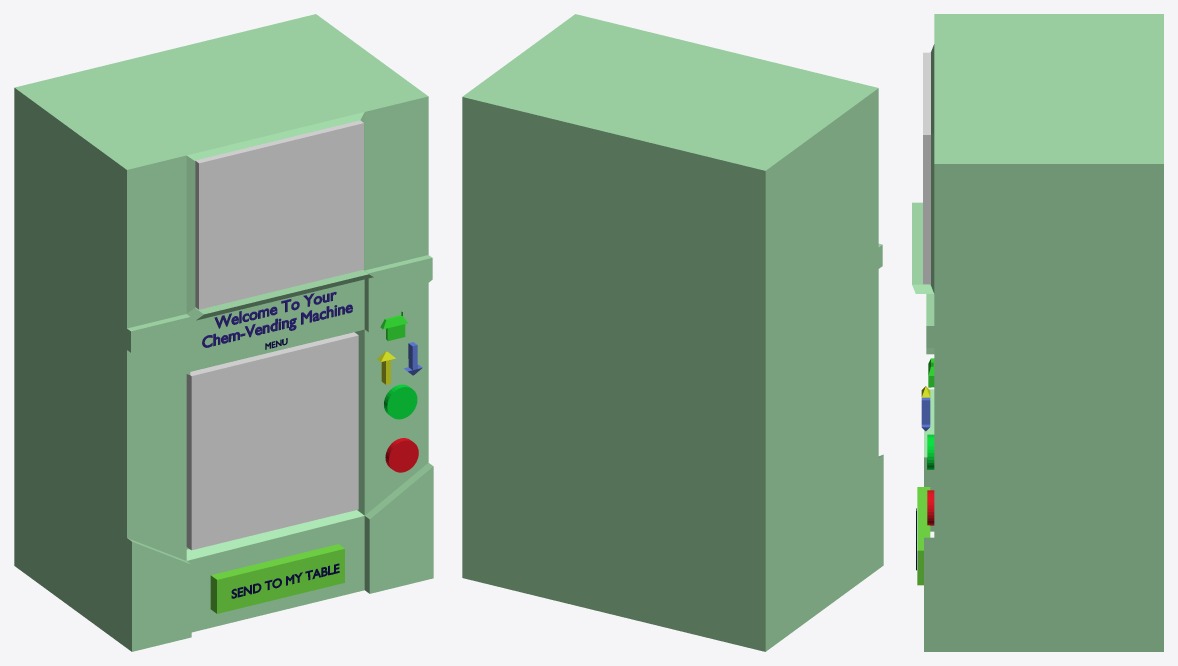
File: chemVendingNov24.glb
3 views of the same model, side by side, from view 1: azimuth 30°, elevation 25°; view 2: azimuth 150°, elevation 25°; view 3: azimuth 270°, elevation 25° (orthographic).
Parts seen in each view (by area): view 1: Cube, menu-screen, image-screen, Cube.002, Text.001, Cylinder, Cylinder.001, Text.002; view 2: Cube; view 3: Cube, image-screen, Cube.002.
Boxes of the visible parts, bbox=[...] form: Cube: bbox=[14, 14, 433, 651]; menu-screen: bbox=[186, 332, 358, 550]; image-screen: bbox=[195, 120, 363, 309]; Cube.002: bbox=[210, 544, 344, 613]; Text.001: bbox=[202, 292, 352, 347]; Cylinder: bbox=[384, 384, 417, 419]; Cylinder.001: bbox=[385, 438, 418, 472]; Text.002: bbox=[231, 563, 339, 598]; Cube: bbox=[462, 14, 883, 651]; Cube: bbox=[912, 14, 1163, 651]; image-screen: bbox=[923, 52, 930, 284]; Cube.002: bbox=[917, 487, 930, 585].
Bounding box in the file's own units: 0.7613 × 1.15 × 0.54.
